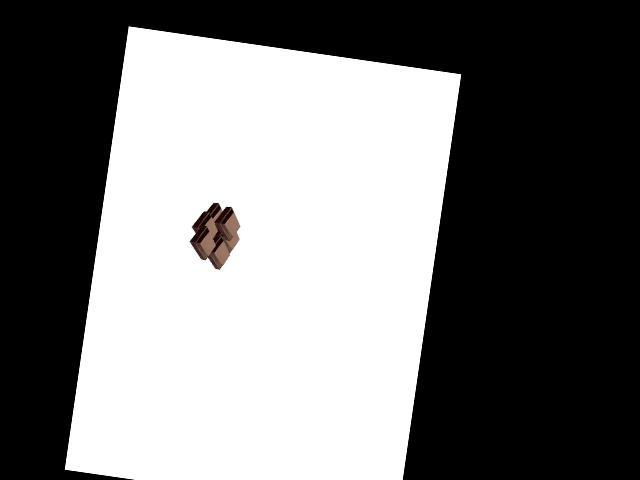chocolate: (188, 198, 246, 271)
